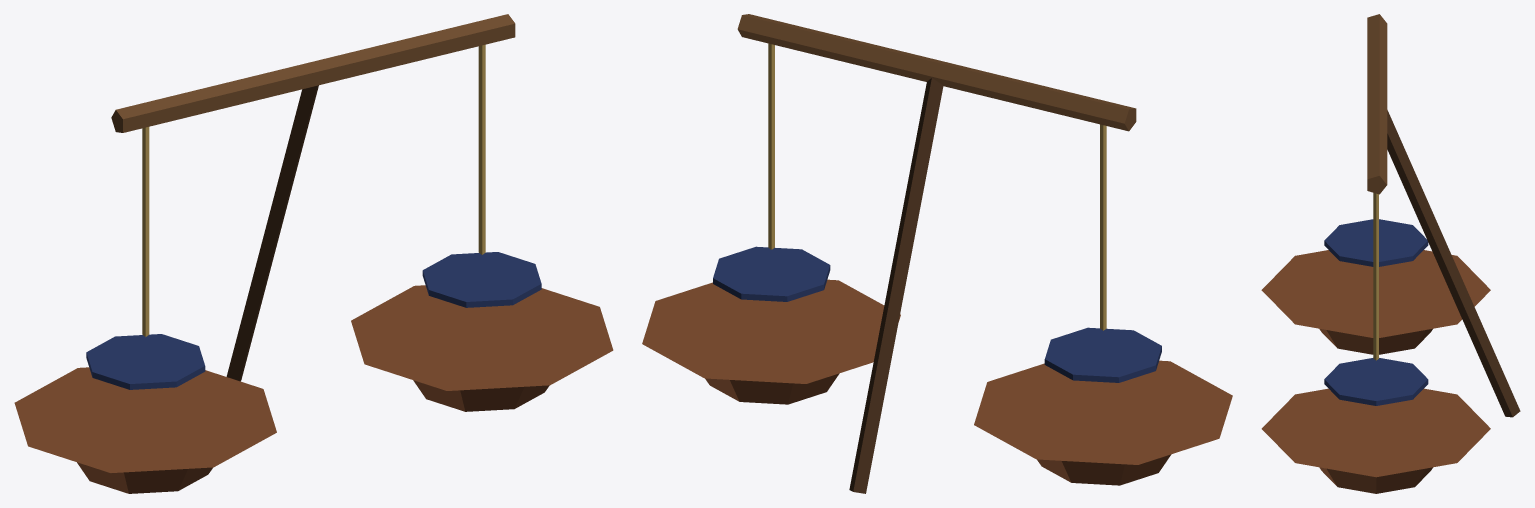
File: prop_life_water_yoke.glb
3 renders of one model, left to right at view 1: azimuth 30°, elevation 25°; view 2: azimuth 150°, elevation 25°; view 3: azimuth 270°, elevation 25°, orthographic. The views are drawn at different scales.
Visible parts, largest first — view 1: prop_life_water_yoke; view 2: prop_life_water_yoke; view 3: prop_life_water_yoke.
Boxes of the visible parts, <box> form: prop_life_water_yoke: <box>14,14,613,493</box>; prop_life_water_yoke: <box>642,14,1232,493</box>; prop_life_water_yoke: <box>1261,14,1520,493</box>.
Bounding box in the file's own units: 2.04 × 1.3 × 0.9479.
